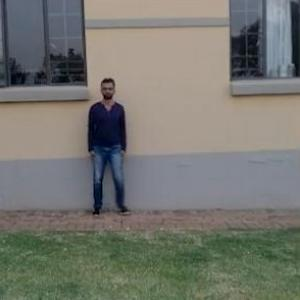follow: (85, 76, 128, 216)
